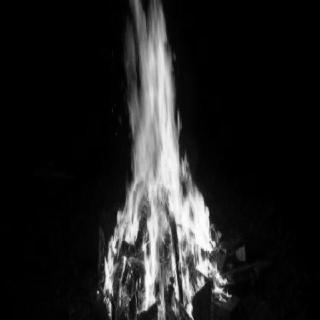Fire: (96, 1, 240, 317)
